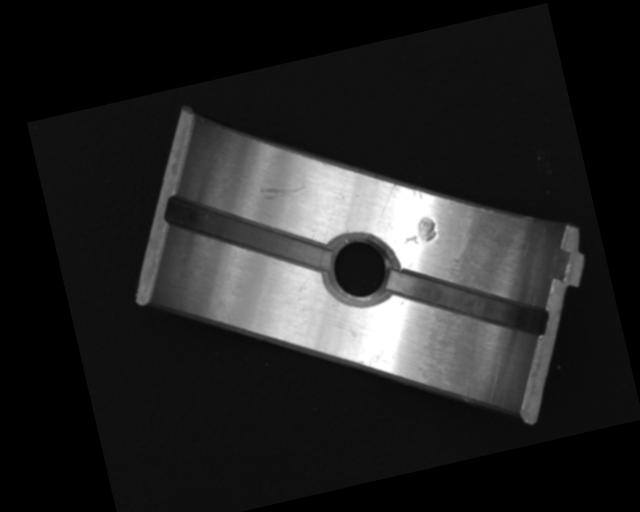bruise: (399, 213, 439, 248)
gap: (164, 164, 332, 302), (385, 239, 551, 364)
hole: (320, 225, 400, 312)
nick: (258, 176, 311, 205)
